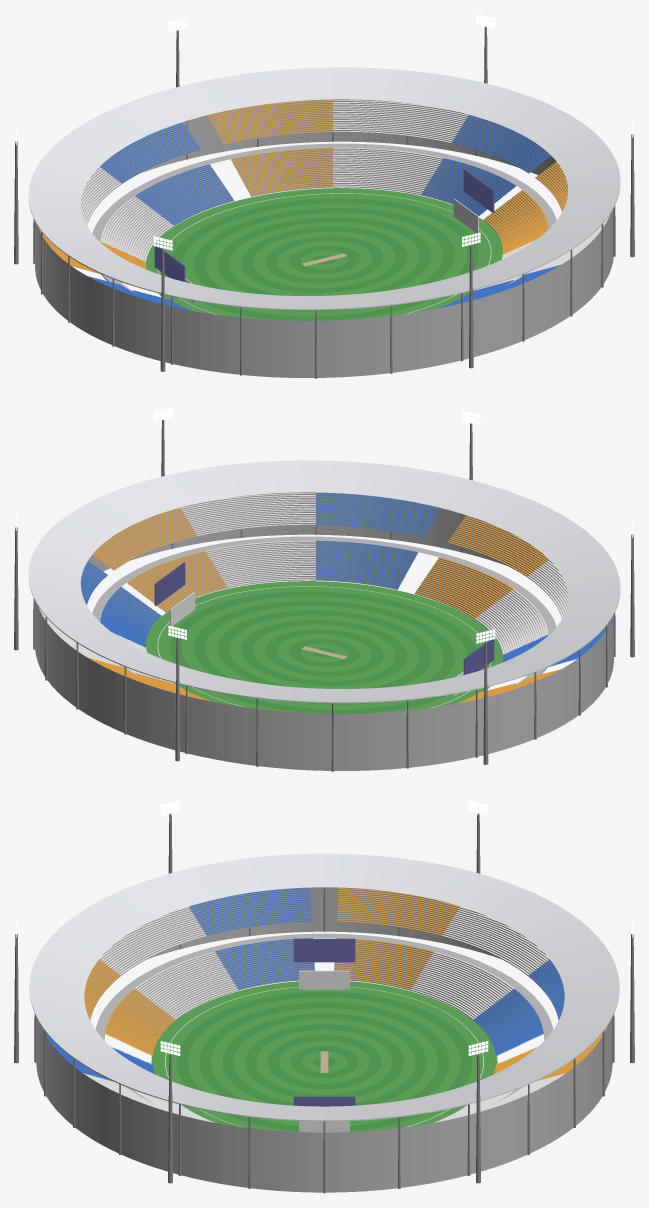
Rendered from stadium.glb.
3 views of the same model, one above another, from view 1: azimuth 30°, elevation 25°; view 2: azimuth 150°, elevation 25°; view 3: azimuth 270°, elevation 25° (orthographic). The views are drawn at different scales.
Visible parts, largest first — view 1: Roof, Facade, Outfield, LowerTier, FacadeInner, UpperTier, Apron, Concourse, FloodlightTowers, Columns, Scoreboards, FloodlightLamps (+1 smaller); view 2: Roof, Facade, Outfield, FacadeInner, LowerTier, UpperTier, Apron, Concourse, FloodlightTowers, Columns, Scoreboards, FloodlightLamps (+1 smaller); view 3: Roof, Facade, Outfield, LowerTier, FacadeInner, UpperTier, Apron, Concourse, FloodlightTowers, Columns, Scoreboards, SightScreens (+1 smaller).
Boxes of the visible parts, x1,y1,x2,y2 form: Roof: [28, 67, 620, 310]; Facade: [35, 115, 613, 377]; Outfield: [158, 193, 490, 320]; LowerTier: [100, 147, 548, 310]; FacadeInner: [35, 115, 613, 377]; UpperTier: [38, 99, 609, 303]; Apron: [146, 188, 502, 314]; Concourse: [92, 143, 556, 292]; FloodlightTowers: [14, 26, 634, 371]; Columns: [33, 120, 615, 378]; Scoreboards: [154, 169, 494, 281]; FloodlightLamps: [16, 14, 632, 250]; Roof: [28, 460, 620, 703]; Facade: [35, 508, 613, 770]; Outfield: [158, 586, 490, 713]; FacadeInner: [35, 509, 613, 770]; LowerTier: [100, 540, 548, 703]; UpperTier: [39, 492, 610, 696]; Apron: [146, 581, 502, 707]; Concourse: [92, 536, 556, 685]; FloodlightTowers: [14, 419, 634, 764]; Columns: [33, 513, 615, 771]; Scoreboards: [154, 562, 494, 674]; FloodlightLamps: [16, 407, 632, 643]; Roof: [29, 853, 619, 1121]; Facade: [36, 887, 612, 1192]; Outfield: [165, 987, 483, 1131]; LowerTier: [105, 938, 543, 1122]; FacadeInner: [36, 887, 612, 1192]; UpperTier: [41, 887, 607, 1115]; Apron: [151, 981, 497, 1126]; Concourse: [95, 933, 553, 1103]; FloodlightTowers: [14, 813, 634, 1183]; Columns: [34, 887, 614, 1193]; Scoreboards: [293, 938, 355, 1106]; SightScreens: [299, 970, 349, 1132].
Size of the model in its own units: 246 by 59.81 by 242.
